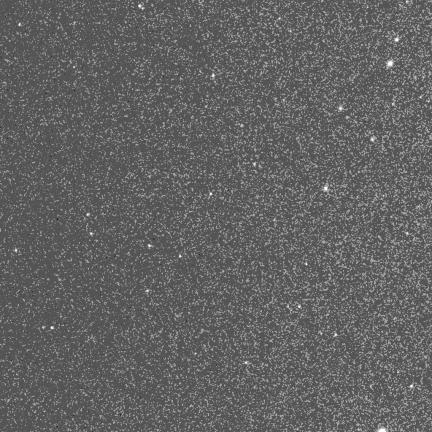blob: (387, 61, 394, 68), (148, 244, 153, 249), (378, 428, 386, 431), (15, 248, 19, 253), (212, 74, 216, 79), (138, 4, 142, 9), (324, 186, 328, 191), (42, 326, 46, 330), (87, 213, 91, 217), (146, 289, 150, 293), (339, 106, 342, 111), (179, 254, 182, 259), (210, 192, 213, 197), (241, 124, 244, 128), (253, 162, 256, 166), (90, 232, 93, 236), (19, 23, 22, 27), (51, 326, 54, 330), (371, 138, 375, 141), (395, 38, 399, 41), (334, 333, 337, 337), (298, 305, 301, 308), (73, 66, 76, 69), (245, 361, 248, 364), (411, 384, 413, 388), (306, 262, 308, 266), (279, 17, 281, 21)
